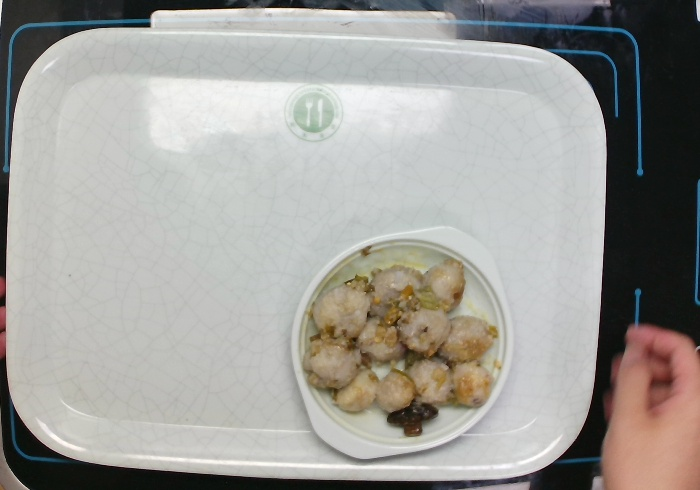JYsf-Shuang_Er_Pan: (286, 222, 516, 469)
